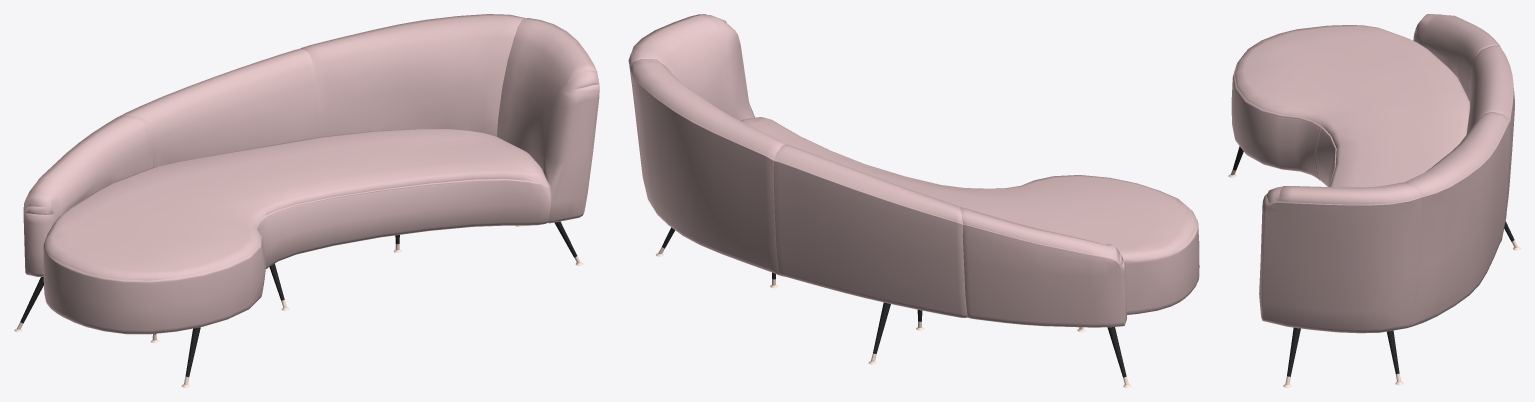
The model's file is sofa-velvet--pale-pink.glb.
3 views of the same model, side by side, from view 1: azimuth 30°, elevation 25°; view 2: azimuth 150°, elevation 25°; view 3: azimuth 270°, elevation 25° (orthographic). The views are drawn at different scales.
Visible parts, largest first — view 1: GlamVelvetSofa_fabric, GlamVelvetSofa_legs; view 2: GlamVelvetSofa_fabric, GlamVelvetSofa_legs; view 3: GlamVelvetSofa_fabric, GlamVelvetSofa_legs.
Part boxes in pixels (box(x1,y1,x2,y2)): GlamVelvetSofa_fabric: box(23, 14, 599, 334); GlamVelvetSofa_legs: box(20, 221, 577, 376); GlamVelvetSofa_fabric: box(628, 14, 1199, 327); GlamVelvetSofa_legs: box(662, 227, 1126, 377); GlamVelvetSofa_fabric: box(1231, 14, 1514, 333); GlamVelvetSofa_legs: box(1233, 146, 1514, 376).
Size of the model in its own units: 2.19 by 0.788 by 1.02.
